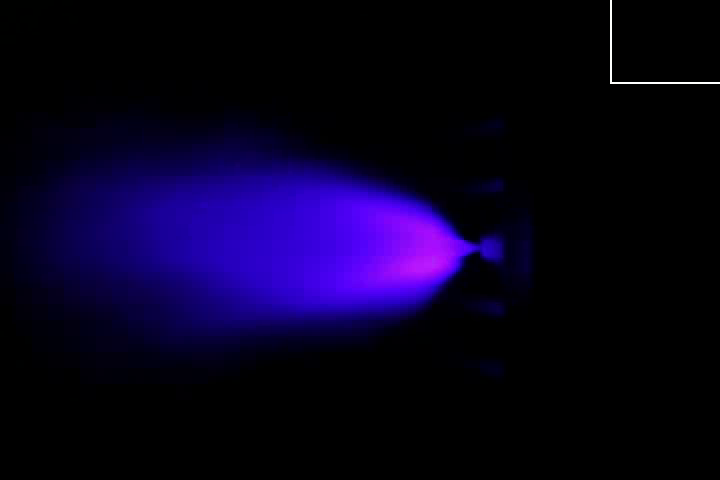burner cap: (477, 229, 507, 270)
unstable: (344, 178, 480, 312)
